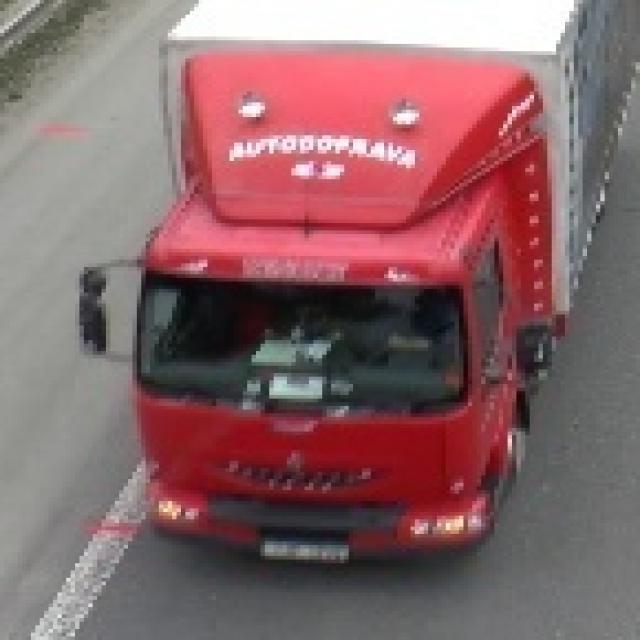truck: (58, 42, 574, 587)
